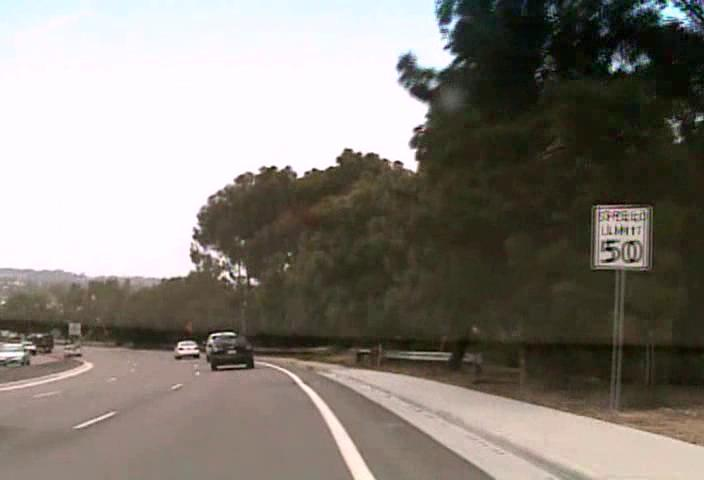speedLimit50: (589, 203, 653, 270)
